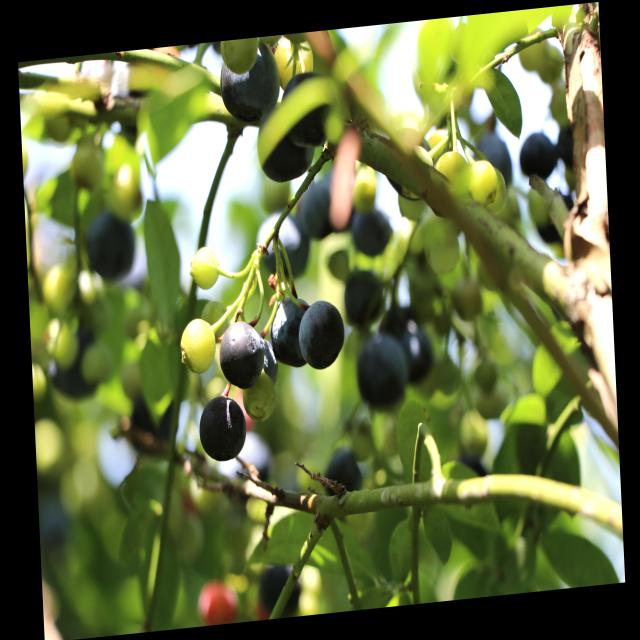blueberry: (216, 44, 282, 126), (256, 102, 315, 186), (280, 66, 336, 152), (82, 209, 140, 287), (351, 329, 406, 410), (254, 208, 310, 285), (195, 390, 250, 466), (296, 294, 345, 378), (265, 292, 313, 372), (218, 316, 266, 390), (464, 124, 514, 194), (337, 260, 388, 326), (348, 200, 397, 263), (258, 556, 304, 617), (319, 439, 368, 495), (296, 180, 338, 242), (517, 126, 560, 183), (536, 187, 578, 242), (255, 334, 280, 389)
blueberry-unripe: (176, 315, 221, 380), (434, 146, 470, 208), (469, 160, 498, 208), (190, 244, 220, 288)
